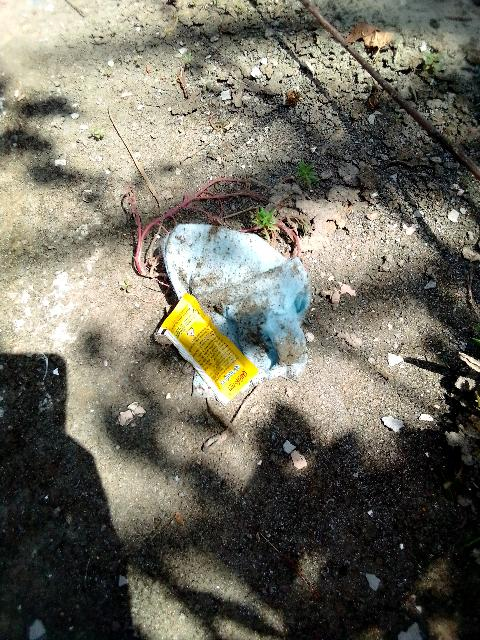mask: (189, 211, 312, 358)
